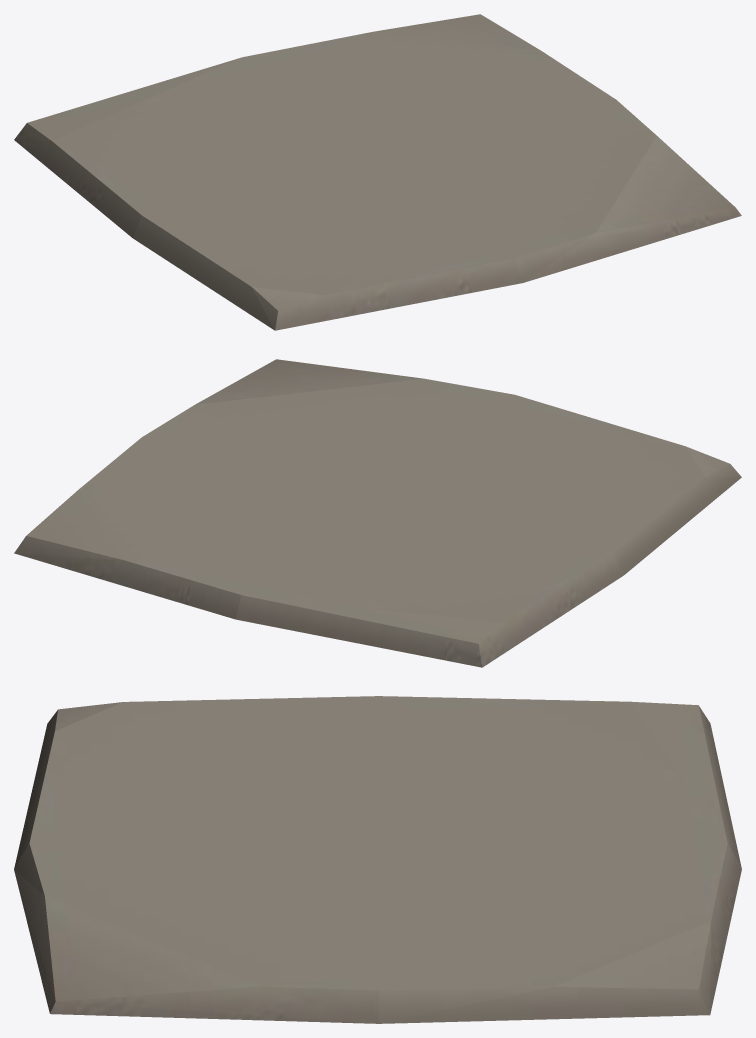
File: slab_town.glb
The picture shows the model from 3 angles, top to bottom: view 1: azimuth 30°, elevation 25°; view 2: azimuth 150°, elevation 25°; view 3: azimuth 270°, elevation 25°; orthographic projection. The views are drawn at different scales.
Visible parts, largest first — view 1: slab_town; view 2: slab_town; view 3: slab_town.
Part boxes in pixels (x1=…): slab_town: x1=14, y1=14, x2=741, y2=330; slab_town: x1=14, y1=359, x2=741, y2=667; slab_town: x1=14, y1=696, x2=741, y2=1023.
Size of the model in its own units: 1 by 0.04 by 1.
1 material, 1 textured.
